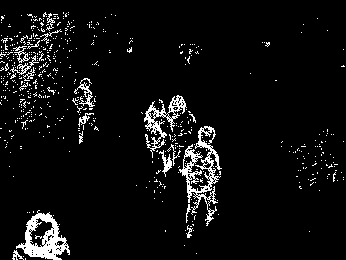person: (189, 124, 222, 236), (70, 74, 102, 147), (144, 97, 171, 183), (170, 93, 190, 160)
